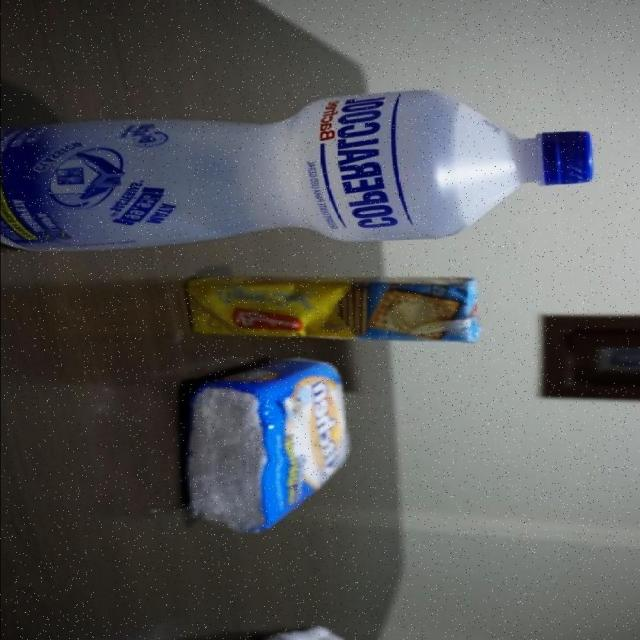AlcoholBottle: (0, 89, 594, 255)
Cracker: (184, 274, 482, 342)
Napkin: (178, 356, 352, 536)
